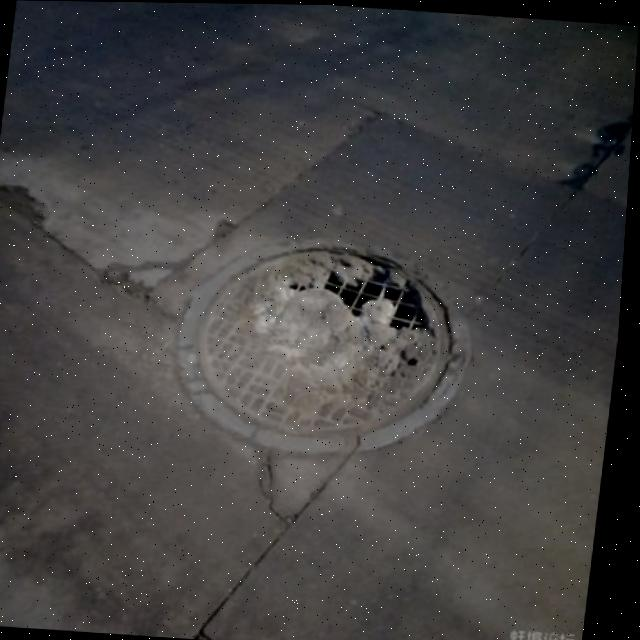manhole: (157, 227, 490, 460)
